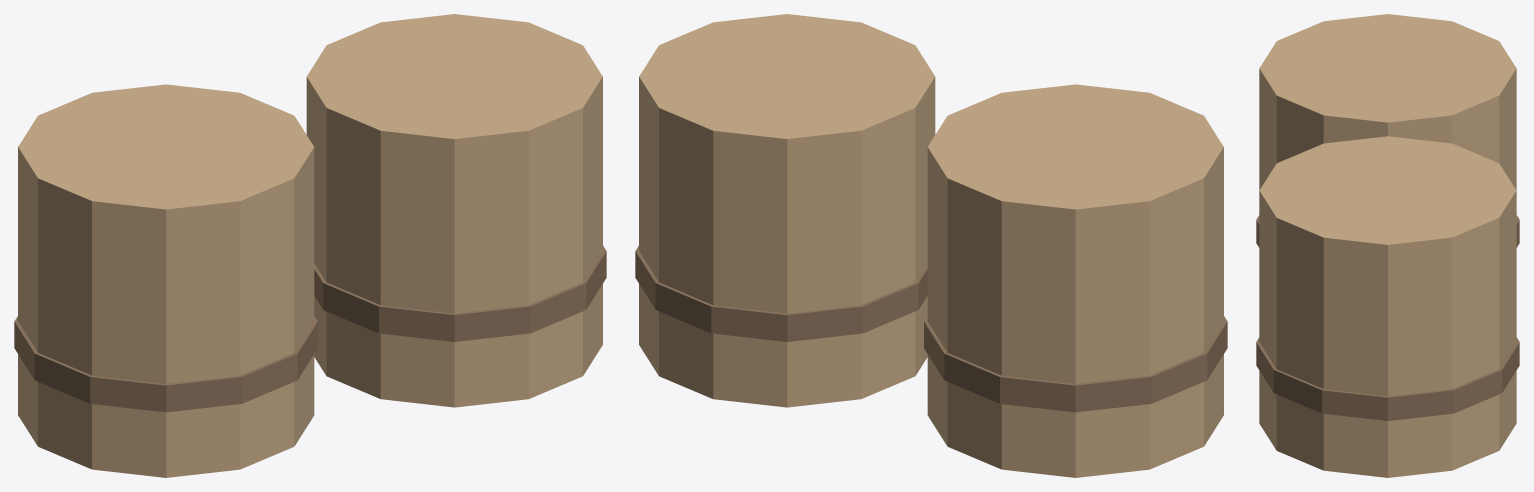
Rendered from feudal-japan-castle-town-water-barrel-pair-fe97531b__26508.glb.
The picture shows the model from 3 angles, left to right: view 1: azimuth 30°, elevation 25°; view 2: azimuth 150°, elevation 25°; view 3: azimuth 270°, elevation 25°; orthographic projection. The views are drawn at different scales.
Visible parts, largest first — view 1: water-barrel-pair; view 2: water-barrel-pair; view 3: water-barrel-pair.
Boxes of the visible parts, x1,y1,x2,y2 form: water-barrel-pair: [14, 14, 606, 477]; water-barrel-pair: [635, 14, 1227, 477]; water-barrel-pair: [1256, 14, 1519, 477].
Size of the model in its own units: 1.72 by 0.8001 by 0.82.
